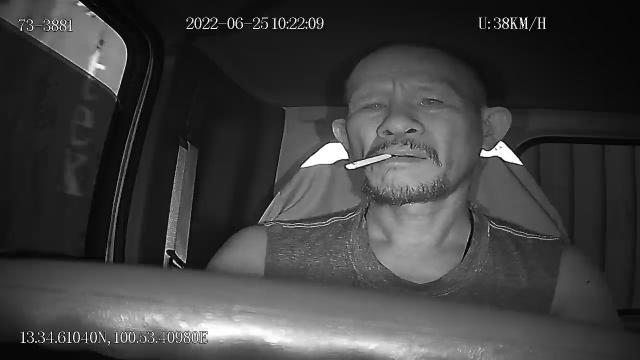SafeDriving: (411, 86, 454, 116), (353, 94, 393, 122)
Smoking: (344, 152, 392, 172)
